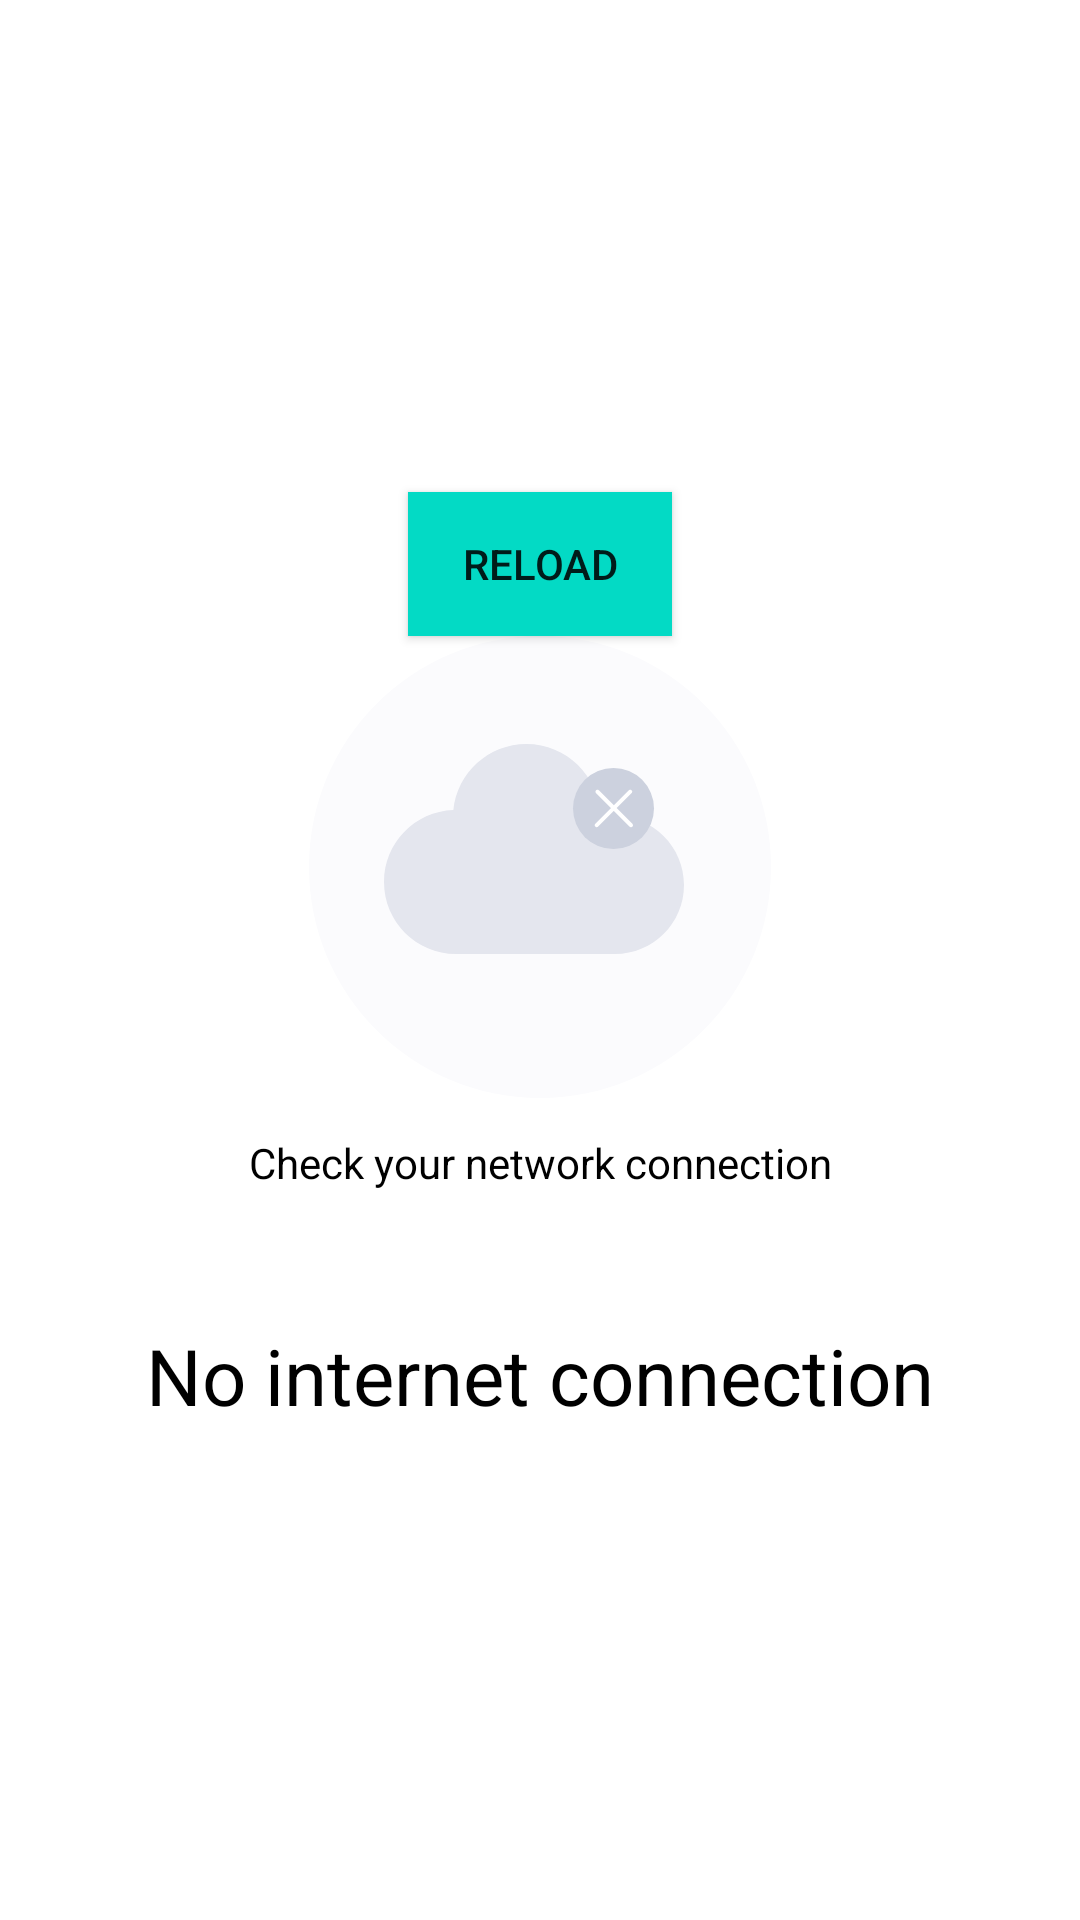

Named icons in this screenshot (1080*1920) and their centers, (x,y):
no connection: (534,849)
